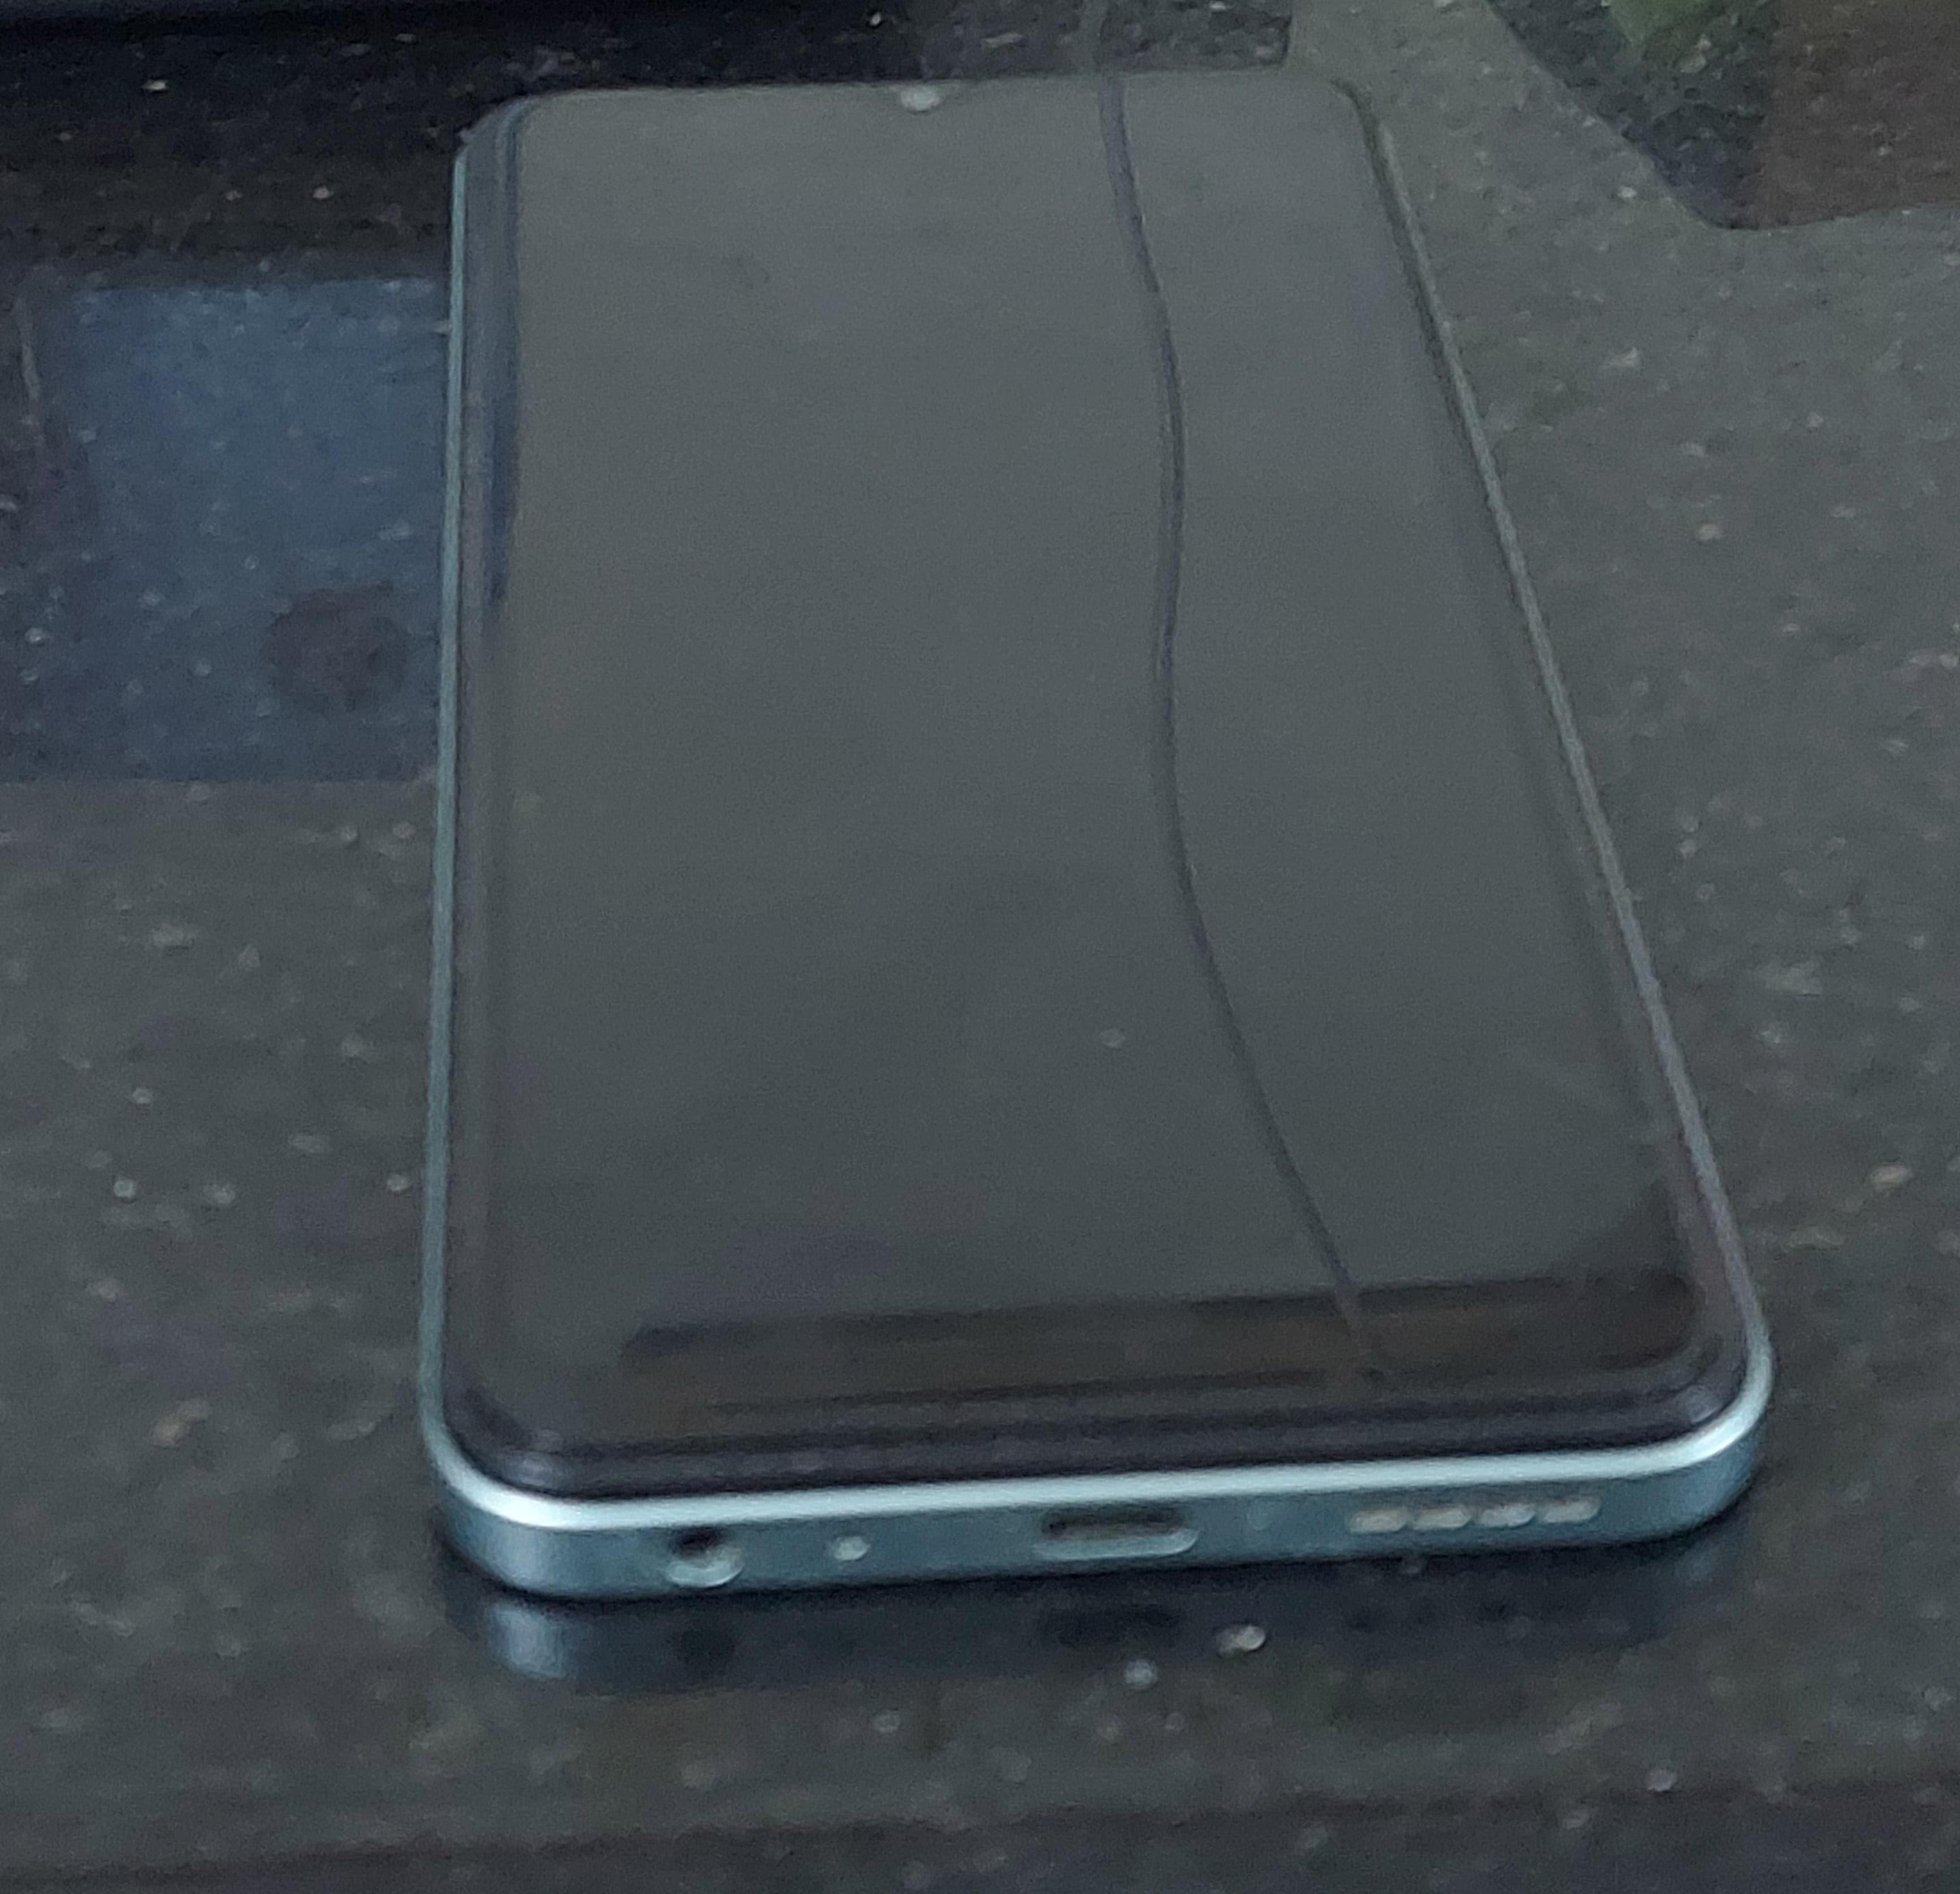Phone: (359, 47, 1781, 1661)
